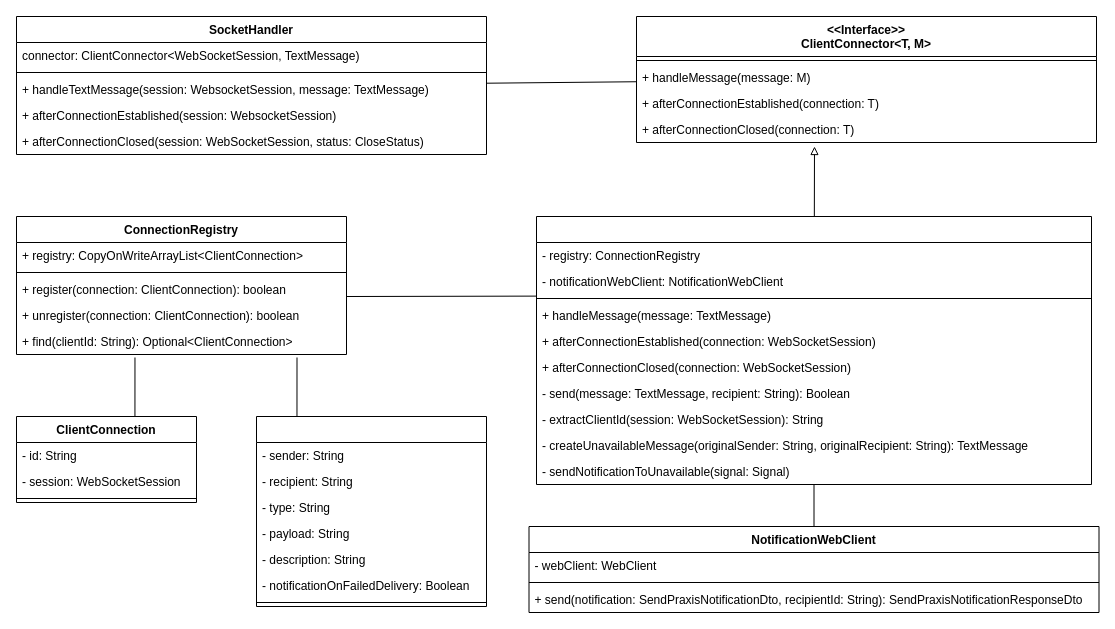
This 1115x629 diagram has some shape labels left out. The box of each missing label's shape, as (x1, y1, x2, y2) in pixels:
Signal: (256, 416, 486, 606)
SignalingService: (536, 216, 1092, 484)
